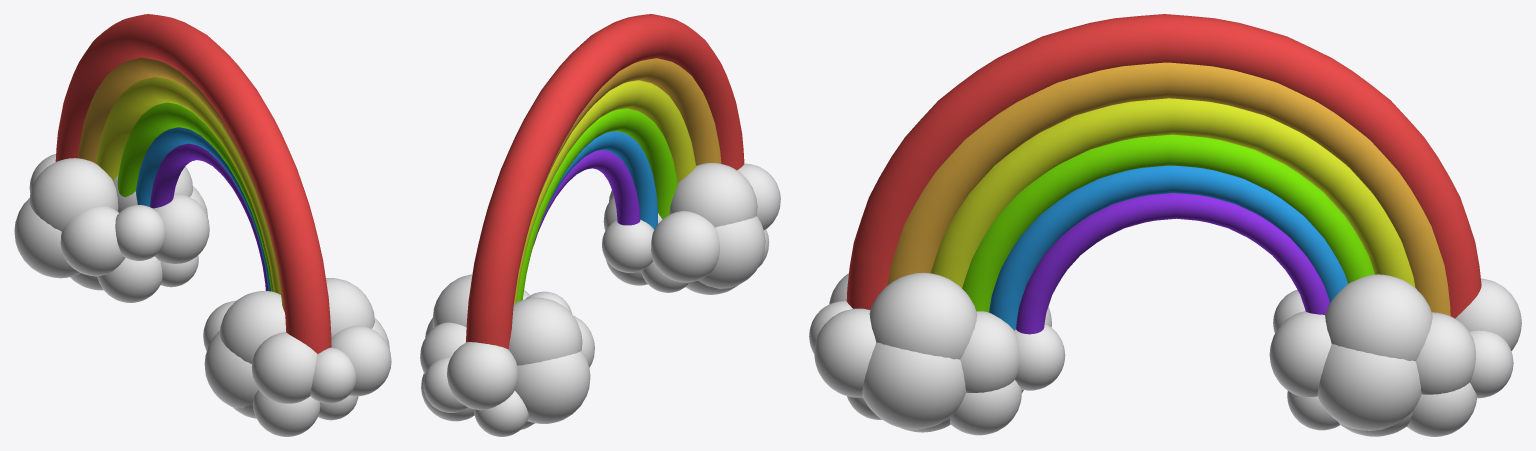
Rendered from V2_arc_en_ciel.fbx.
The picture shows the model from 3 angles, left to right: view 1: azimuth 30°, elevation 25°; view 2: azimuth 150°, elevation 25°; view 3: azimuth 270°, elevation 25°; orthographic projection. The views are drawn at different scales.
Visible parts, largest first — view 1: Circle.003, Circle.001, Sphere.016, Circle.002, Circle, Sphere.030, Sphere.017, Sphere.031, Sphere.012, Sphere.003, Sphere.020, Sphere.027 (+11 smaller); view 2: Circle.003, Circle.001, Circle, Circle.002, Sphere.020, Sphere.031, Sphere.028, Sphere.016, Sphere.019, Sphere.027, Circle.004, Circle.005 (+11 smaller); view 3: Circle.003, Circle.002, Circle.001, Circle, Circle.004, Circle.005, Sphere, Sphere.015, Sphere.004, Sphere.011, Sphere.003, Sphere.012 (+10 smaller).
Part boxes in pixels (x1,y1,x2,y2): Circle.003: (55,14,331,354); Circle.001: (96,77,280,294); Sphere.016: (29,158,118,231); Circle.002: (78,57,284,312); Circle: (117,102,273,291); Sphere.030: (251,332,317,403); Sphere.017: (60,206,125,276); Sphere.031: (219,291,285,363); Sphere.012: (152,193,209,263); Sphere.003: (331,325,391,396); Sphere.020: (14,198,80,278); Sphere.027: (204,331,258,408); Circle.003: (466,14,744,349); Circle.001: (514,80,696,303); Circle: (516,108,677,301); Circle.002: (540,58,721,193); Sphere.020: (515,350,590,423); Sphere.031: (669,163,757,227); Sphere.028: (651,211,719,282); Sphere.016: (508,297,582,365); Sphere.019: (447,342,518,410); Sphere.027: (698,215,765,288); Circle.004: (541,131,657,229); Circle.005: (533,150,640,246); Circle.003: (846,14,1481,318); Circle.002: (887,62,1450,315); Circle.001: (931,98,1415,287); Circle: (962,134,1374,312); Circle.004: (989,165,1347,330); Circle.005: (1016,193,1329,334); Sphere: (869,272,976,359); Sphere.015: (1325,274,1432,361); Sphere.004: (862,342,966,429); Sphere.011: (1317,344,1421,430); Sphere.003: (814,308,875,397); Sphere.012: (1269,311,1331,396).
Bounding box in the file's own units: 1263 × 2335 × 3731.
